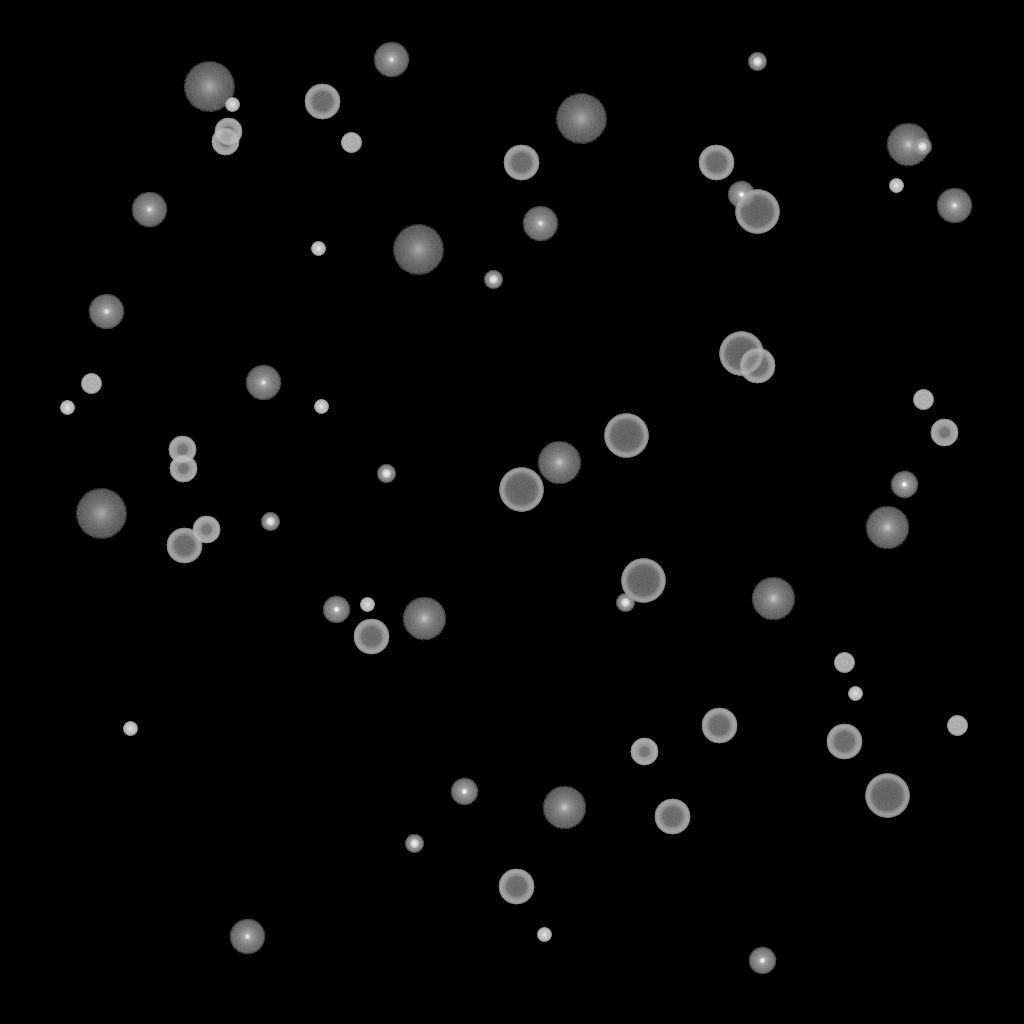depth:-10: (890, 471, 918, 499), (727, 181, 755, 209), (450, 778, 478, 806), (748, 947, 776, 975), (322, 596, 350, 624)
depth:-20: (616, 594, 634, 612), (377, 465, 395, 483), (748, 53, 766, 71), (484, 271, 502, 289), (913, 138, 931, 156), (405, 835, 423, 853), (261, 513, 279, 531)
depth:-30: (537, 928, 551, 942), (360, 598, 374, 612), (123, 722, 137, 736), (225, 98, 239, 112), (311, 242, 325, 256), (848, 687, 862, 701), (314, 400, 328, 414), (60, 401, 74, 415), (889, 179, 903, 193)
depth:-40: (341, 133, 361, 153), (81, 374, 101, 394), (834, 653, 854, 673), (913, 390, 933, 410), (947, 716, 967, 736)
depth:-50: (630, 738, 658, 766), (168, 436, 196, 464), (214, 118, 242, 146), (930, 419, 958, 447), (169, 455, 197, 483), (211, 128, 239, 156), (192, 516, 220, 544)
depth:-60: (826, 724, 862, 760), (701, 708, 737, 744), (698, 145, 734, 181), (166, 528, 202, 564), (654, 799, 690, 835), (498, 869, 534, 905), (304, 84, 340, 120), (739, 348, 775, 384), (353, 619, 389, 655), (503, 145, 539, 181)
depth:-70: (865, 774, 909, 818), (621, 559, 665, 603), (735, 190, 779, 234), (719, 332, 763, 376), (604, 414, 648, 458), (499, 468, 543, 512)
depth:0: (936, 188, 972, 224), (88, 294, 124, 330), (245, 365, 281, 401), (373, 42, 409, 78), (522, 206, 558, 242), (131, 192, 167, 228), (229, 919, 265, 955)
depth:10: (751, 577, 795, 621), (865, 506, 909, 550), (886, 123, 930, 167), (537, 441, 581, 485), (402, 597, 446, 641), (542, 786, 586, 830)
depth:20: (75, 489, 127, 539), (555, 94, 607, 144), (183, 62, 235, 112), (392, 225, 444, 275)
